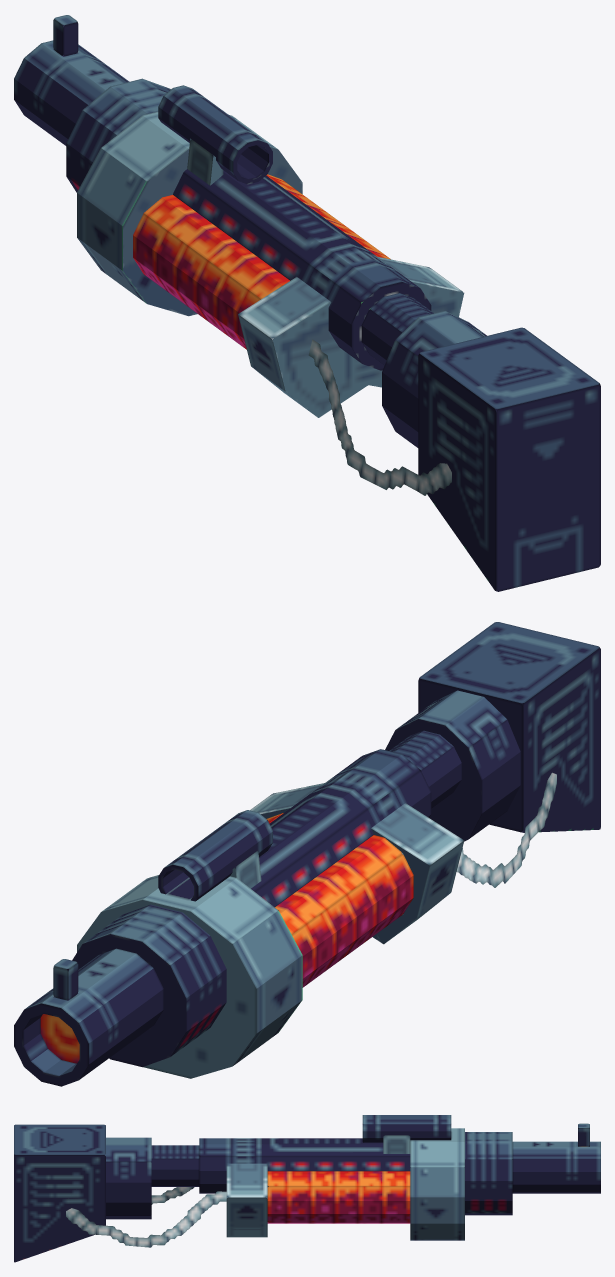
File: railgun(1).fbx
3 renders of one model, top to bottom at view 1: azimuth 30°, elevation 25°; view 2: azimuth 150°, elevation 25°; view 3: azimuth 270°, elevation 25°, orthographic. The views are drawn at different scales.
Visible parts, largest first — view 1: main; view 2: main; view 3: main.
Part boxes in pixels (left/top/right/bottom): main: left=14, top=15, right=600, bottom=591; main: left=14, top=622, right=600, bottom=1086; main: left=14, top=1115, right=600, bottom=1262.
Bounding box in the file's own units: 120 × 133 × 539.
1 material, 1 textured.
